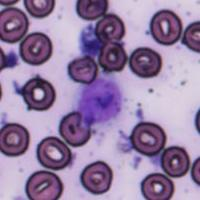L: (72, 74, 129, 128)
